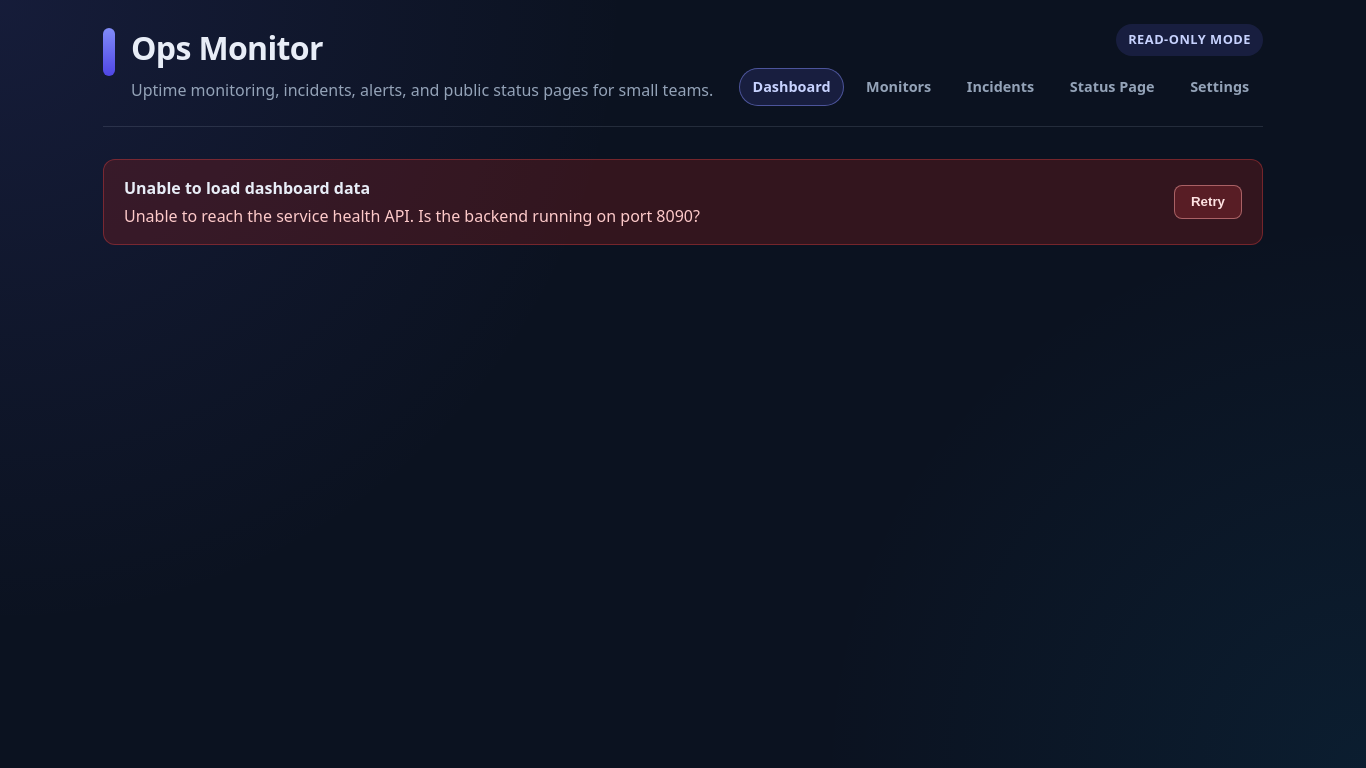
Scenario: App › shows an error banner on API failure and retries successfully
This screenshot has width=1366, height=768.
Expected: the message shows "Unable to load dashboard data", [124,177,370,199]
Expected: the text "Unable to reach the service health API" is shown, [124,205,700,227]
Click the button "Retry": [1208, 202] box [1174,185,1242,219]
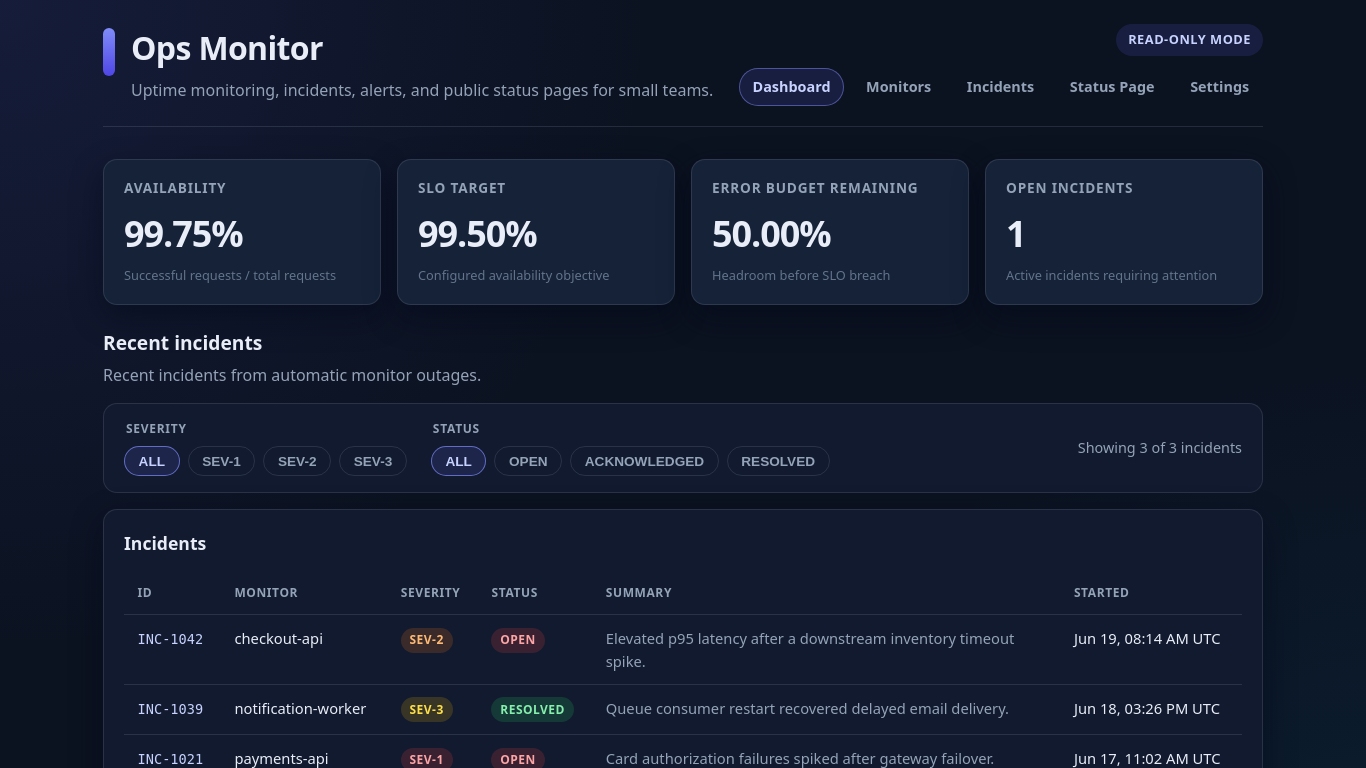
Expected: the element named "Service health summary" is shown, [103,159,1263,305]
Expected: the message is gone
